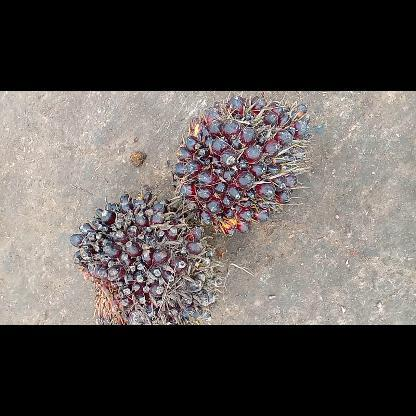TBS mentah: (172, 92, 314, 235), (68, 192, 218, 324)
